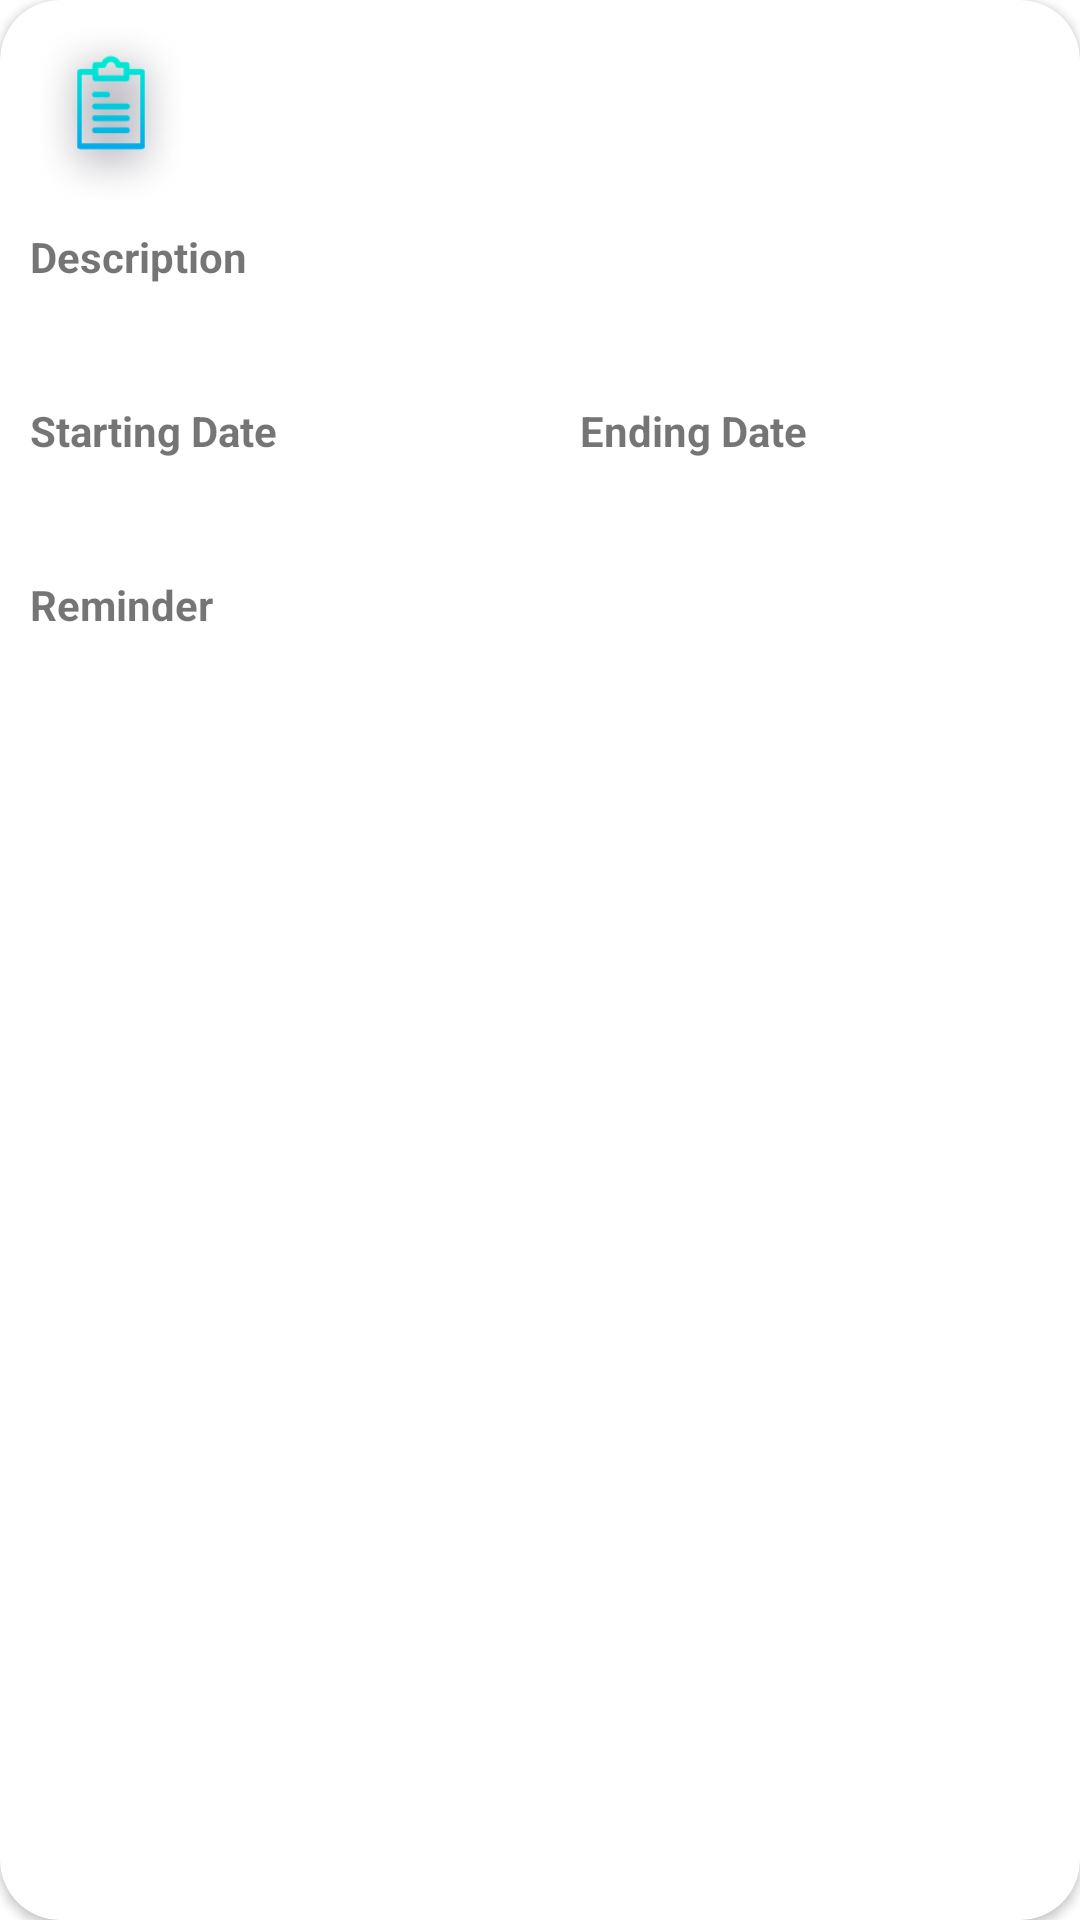

Icons on this 1080x1920 Android screen, each with its box as region(x1, y1, x2, y2):
task: region(69, 55, 153, 169)
